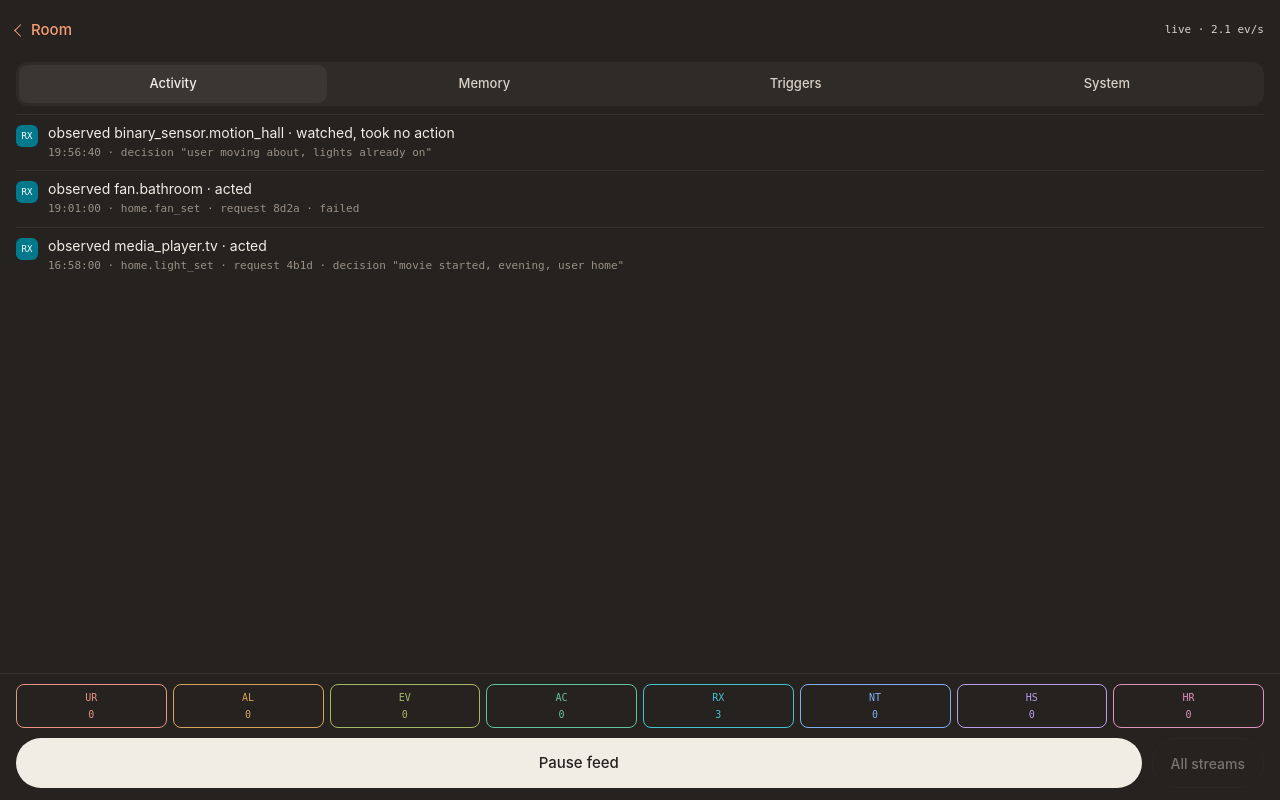
Workshop › keeps both numbers outside the region that speaks
Expected: the element with test id "workshop-status" reads "live · 2.1 ev/s", [1165,22,1264,38]
Expected: the message with test id "workshop-state" reads "live", [1165,23,1191,36]
Step 1. Click the button "Pause feed" → (579, 763), box [16,738,1142,788]
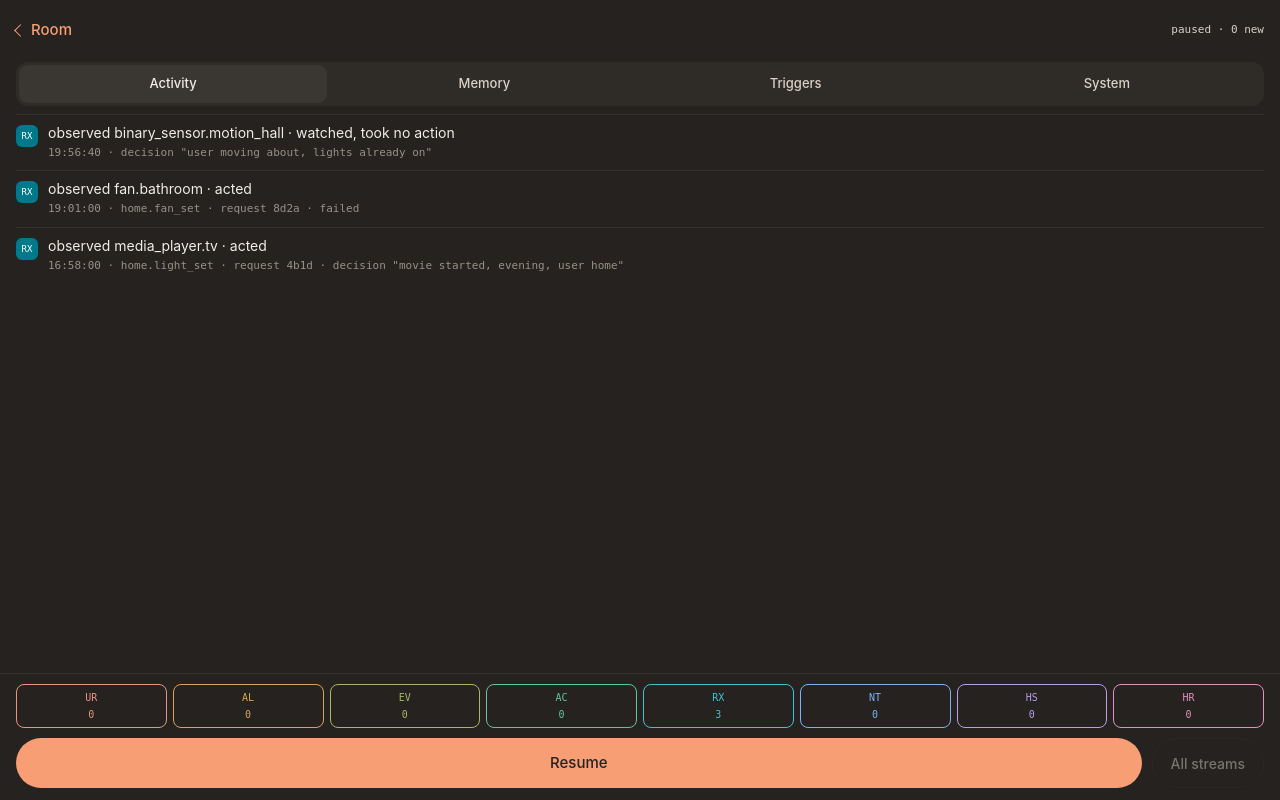
Now the message with test id "workshop-state" reads "paused", box [1171,23,1211,36]
Now the element with test id "workshop-status" reads "paused · 0 new", box [1171,22,1264,38]
